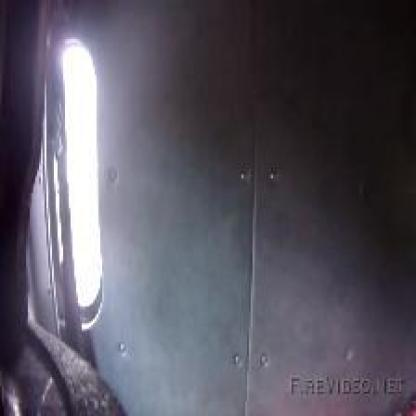other: (67, 42, 104, 310)
